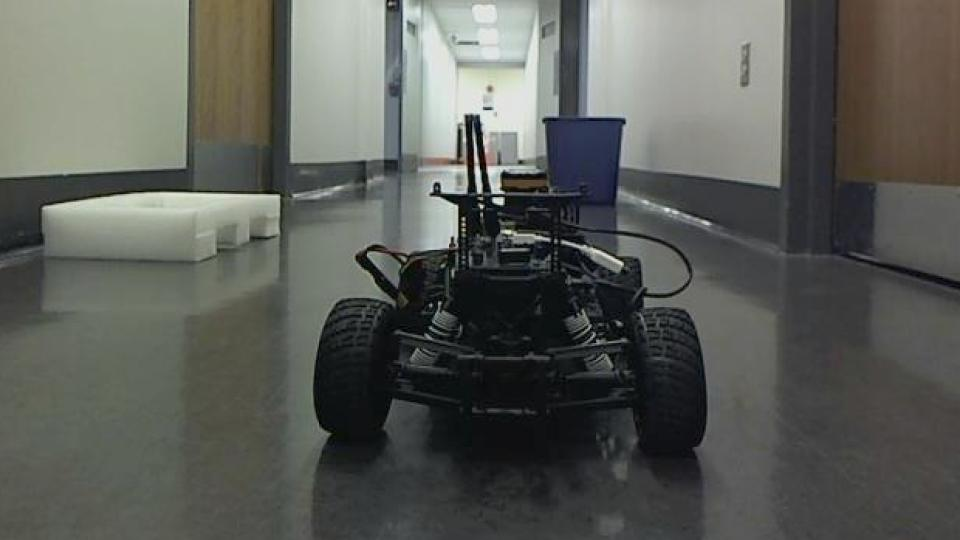car: (310, 112, 712, 459)
